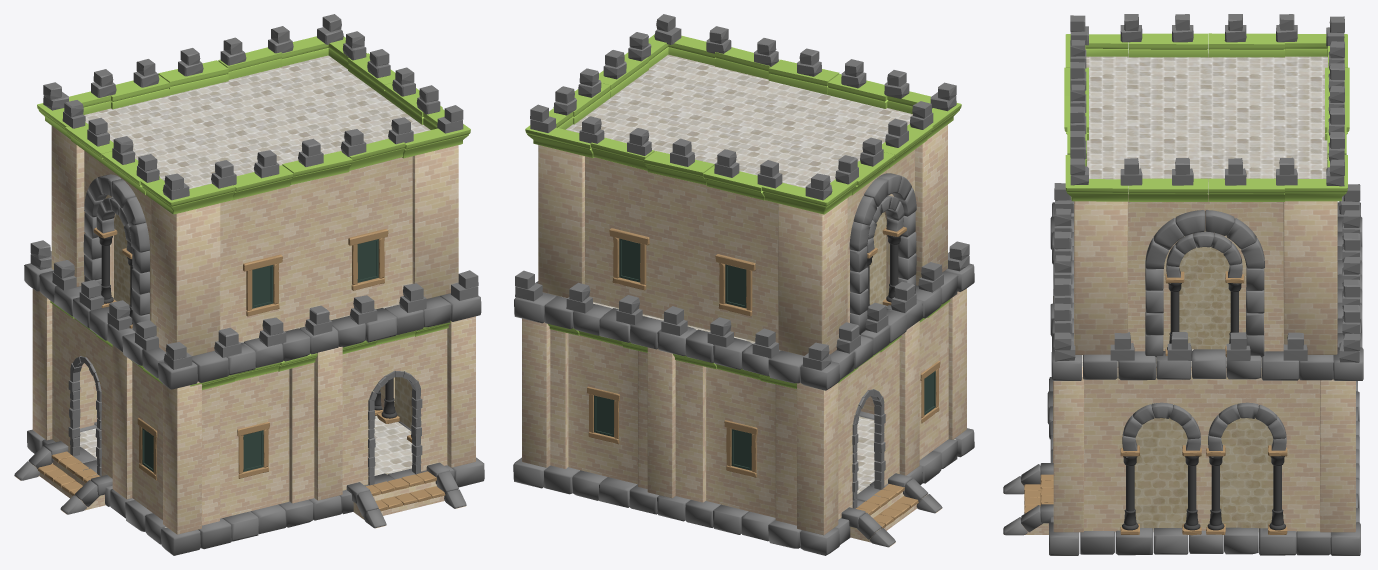
File: SM_house_desert_01.fbx
3 renders of one model, left to right at view 1: azimuth 30°, elevation 25°; view 2: azimuth 150°, elevation 25°; view 3: azimuth 270°, elevation 25°, orthographic. The views are drawn at different scales.
Visible parts, largest first — view 1: Object33194; view 2: Object33194; view 3: Object33194.
Boxes of the visible parts, left/top/right/bottom form: Object33194: left=14, top=14, right=484, bottom=555; Object33194: left=513, top=14, right=974, bottom=555; Object33194: left=1003, top=14, right=1363, bottom=555.
Bounding box in the file's own units: 444 × 448 × 378.
